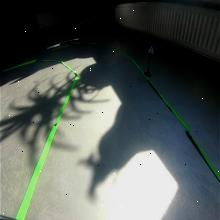crosswalk: (147, 43, 157, 57)
